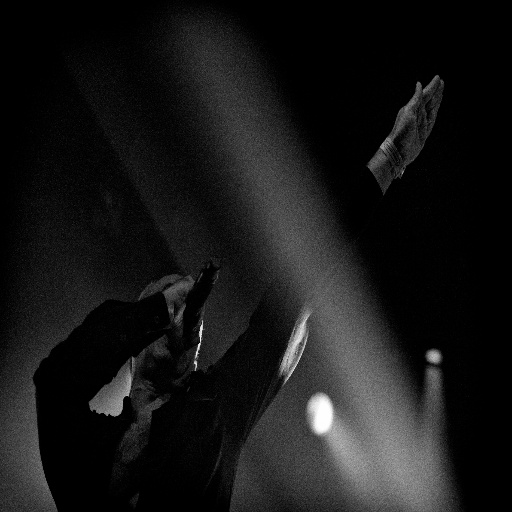hand: (355, 70, 450, 195), (161, 273, 205, 354)
